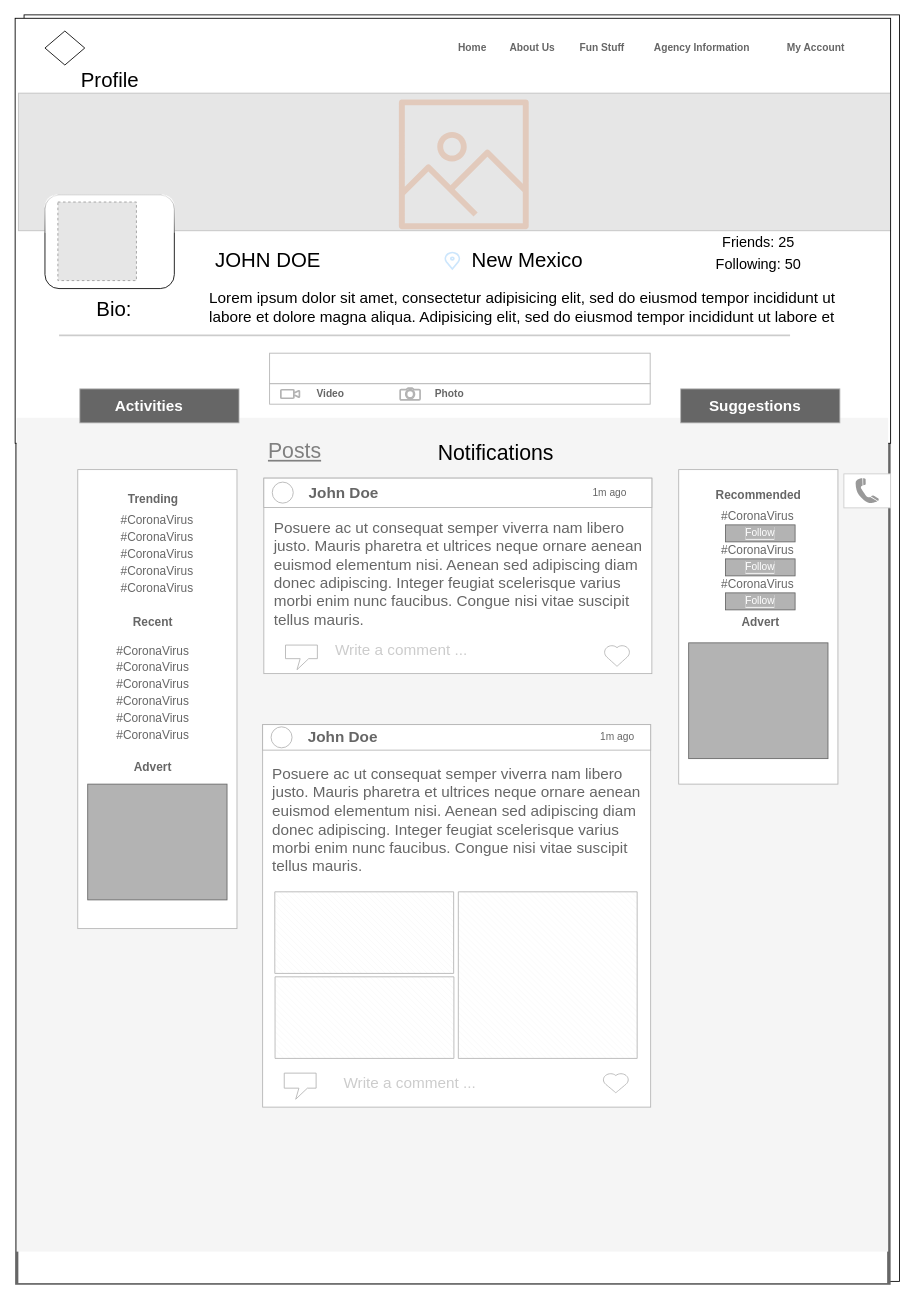
Some shapes in this 915 by 1300 pixel diagram are drawn without their labels. Grey dashed boxes stand in for pictures. The box of each missing label's shape, as (x1, y1, x2, y2) in pixels:
Powered by Information: (18, 1240, 887, 1283)
Share your thoughts: (269, 352, 650, 384)
